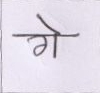e_matra: (37, 14, 62, 34)
